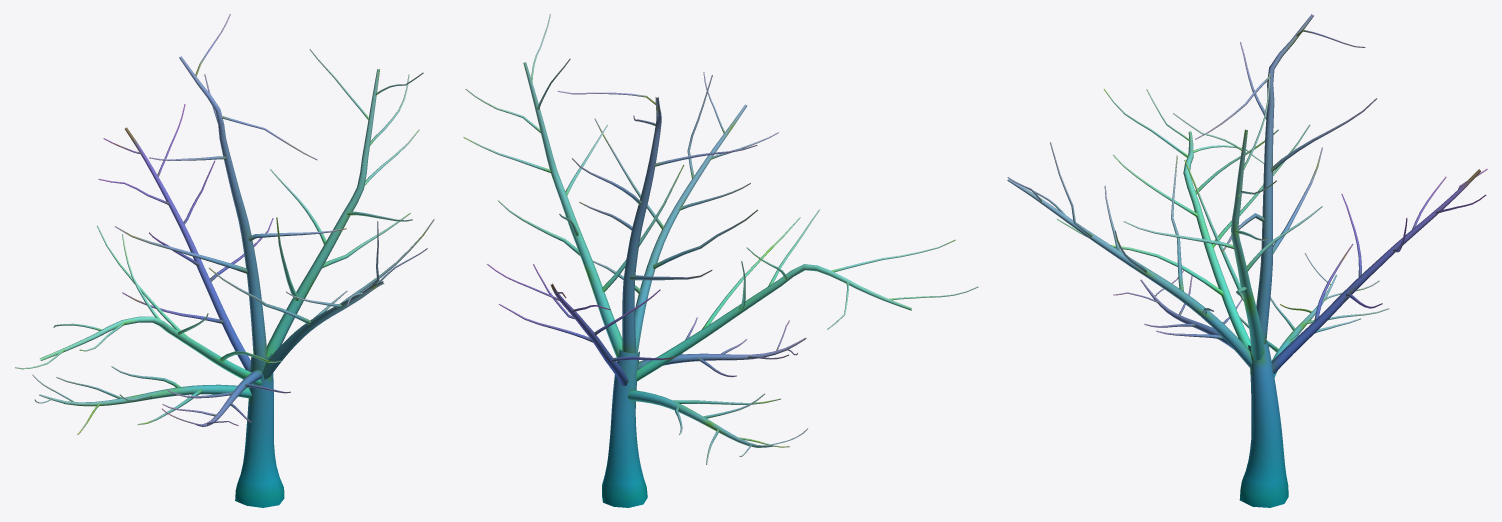
The model's file is maple-grove-c.glb.
The picture shows the model from 3 angles, left to right: view 1: azimuth 30°, elevation 25°; view 2: azimuth 150°, elevation 25°; view 3: azimuth 270°, elevation 25°; orthographic projection. The views are drawn at different scales.
Visible parts, largest first — view 1: bark; view 2: bark; view 3: bark.
Part boxes in pixels (bbox=[...]): bark: bbox=[15, 14, 434, 507]; bark: bbox=[463, 14, 978, 507]; bark: bbox=[1007, 14, 1487, 507].
Bounding box in the file's own units: 12.47 × 11.43 × 10.81.
